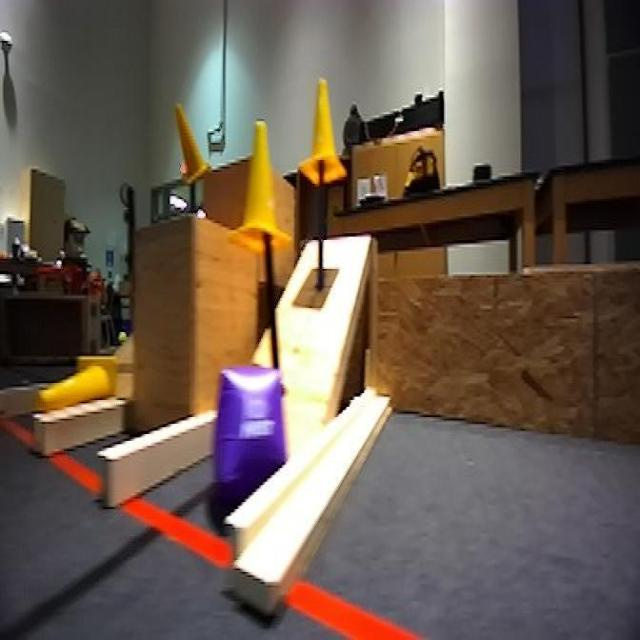frc_cone: (236, 130, 290, 250), (32, 352, 119, 420), (300, 78, 345, 185), (172, 90, 207, 187)
frc_cube: (208, 359, 290, 509)
